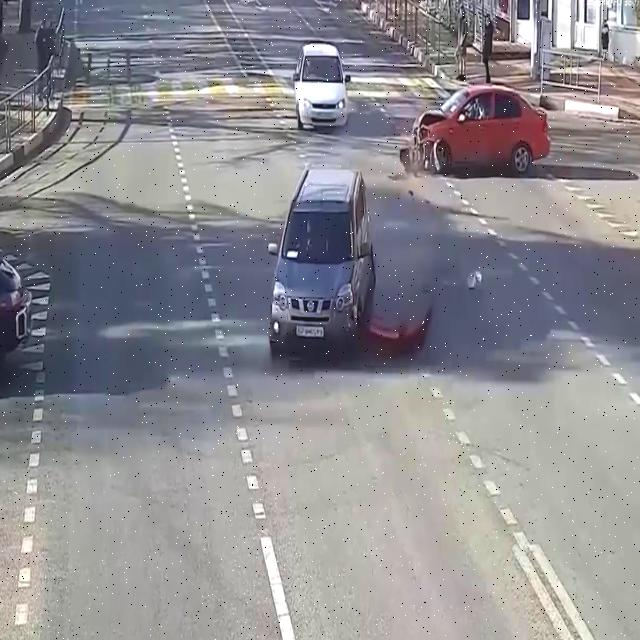accident: (264, 171, 444, 383), (395, 68, 563, 178)
